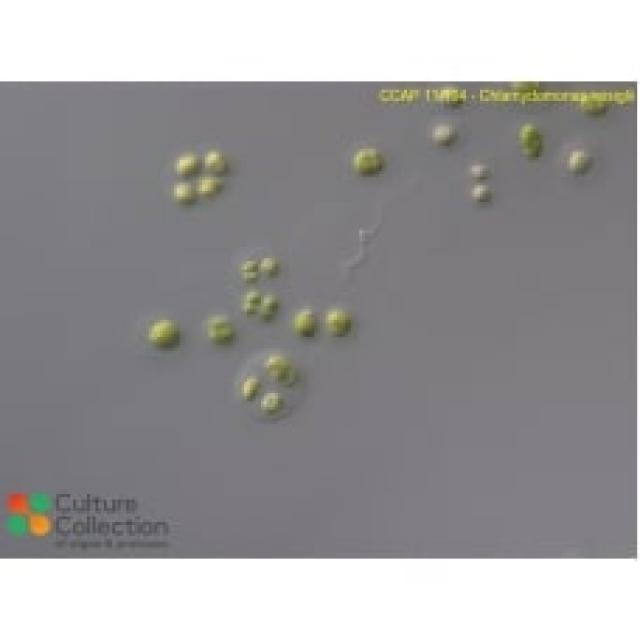Green Algae: (143, 312, 180, 348), (348, 146, 385, 180), (519, 121, 545, 163), (326, 300, 354, 337), (264, 351, 295, 382), (292, 303, 317, 340), (171, 154, 202, 177), (208, 314, 233, 342), (430, 123, 460, 146), (205, 151, 230, 177), (564, 149, 590, 174), (466, 185, 497, 205), (241, 374, 261, 404), (261, 390, 284, 416), (469, 160, 491, 185), (196, 174, 222, 194), (258, 294, 281, 312), (238, 258, 256, 275), (261, 255, 278, 272), (242, 289, 258, 303)
